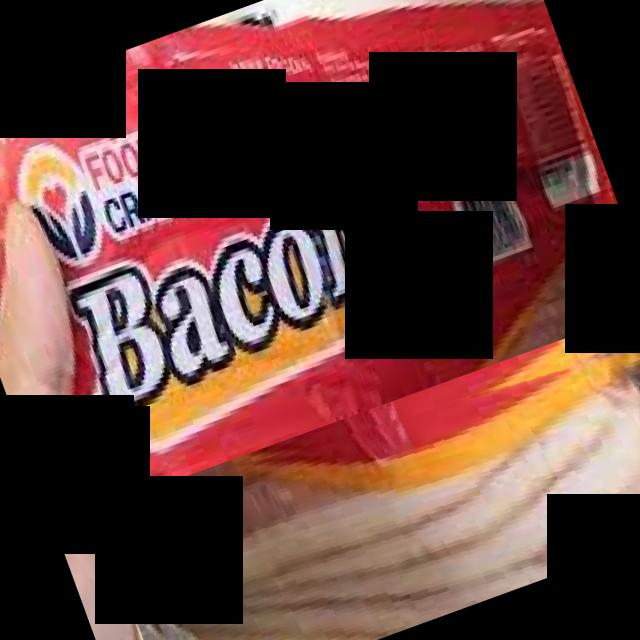bacon: (96, 314, 640, 640)
